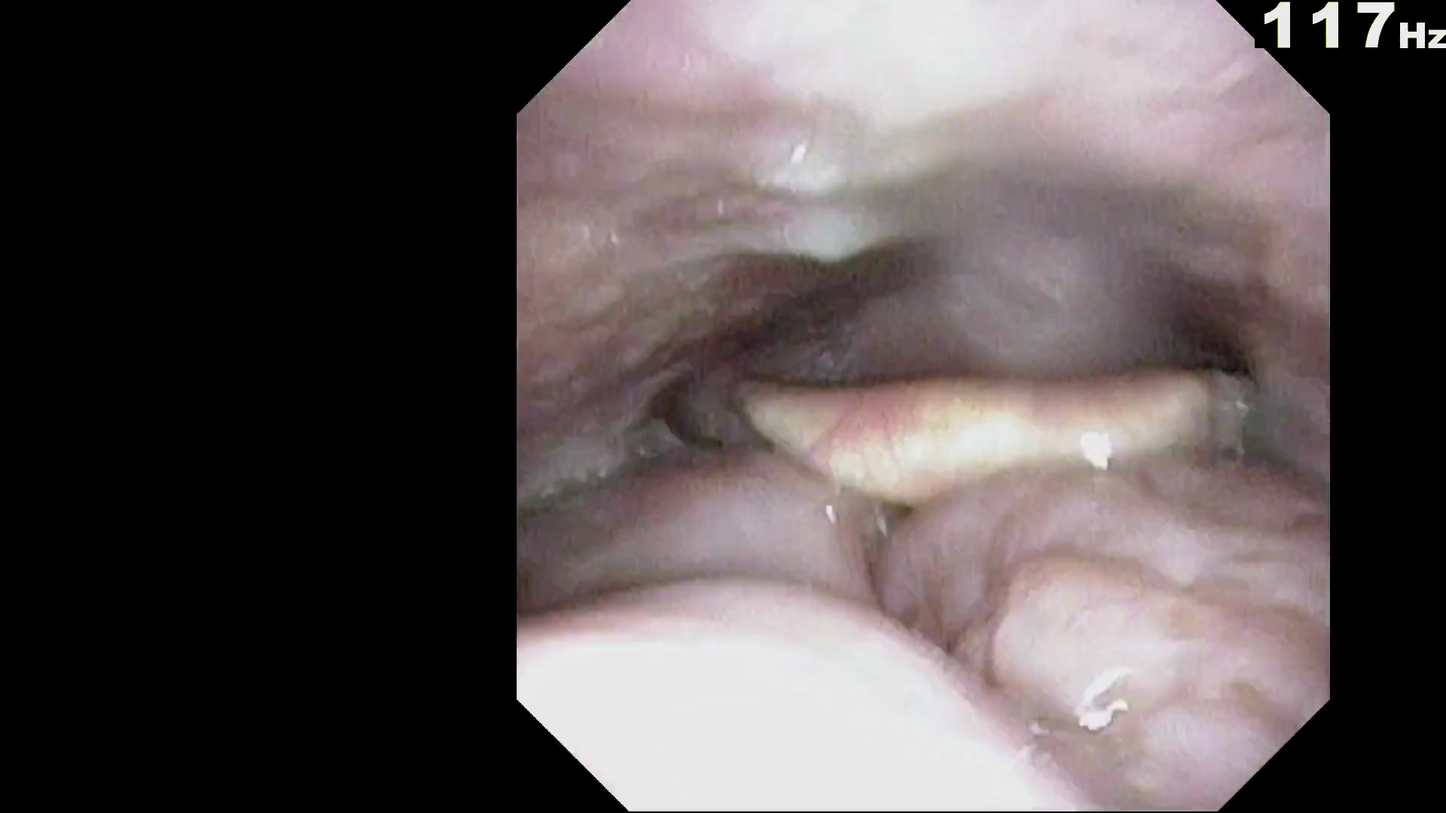epiglottis: (676, 406, 1263, 623)
